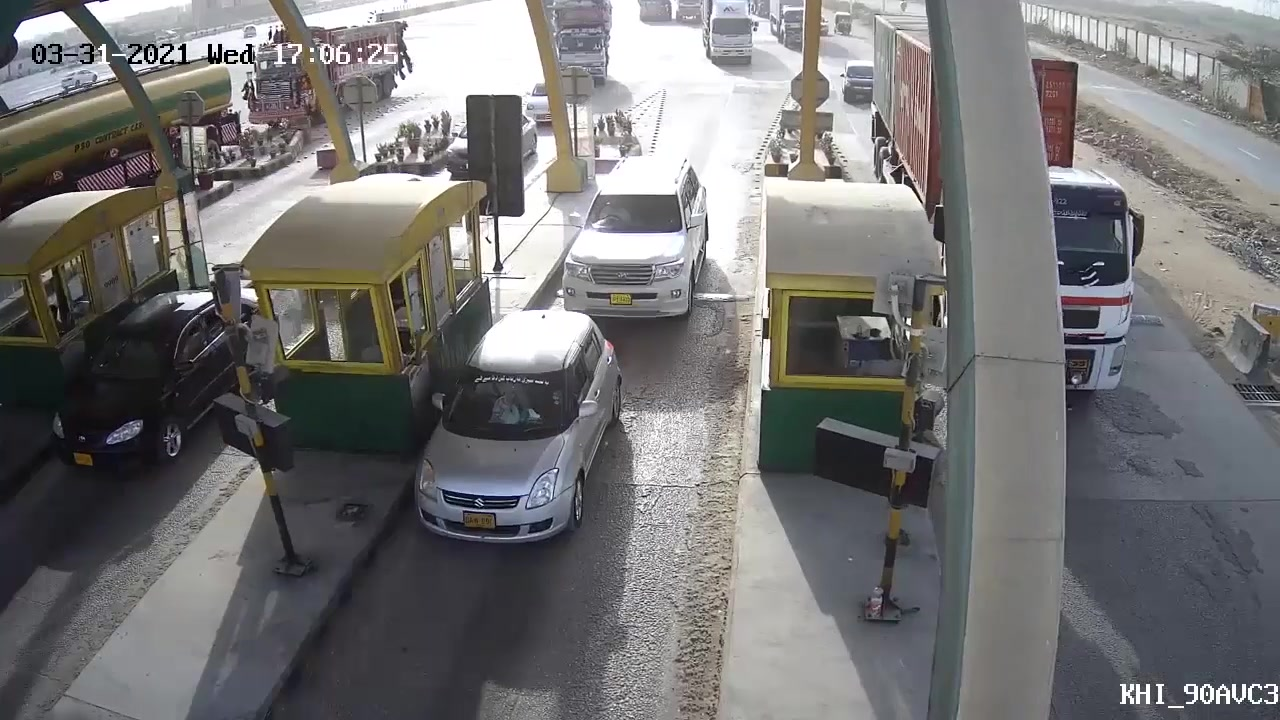F1: (411, 308, 635, 564), (551, 147, 725, 327)
